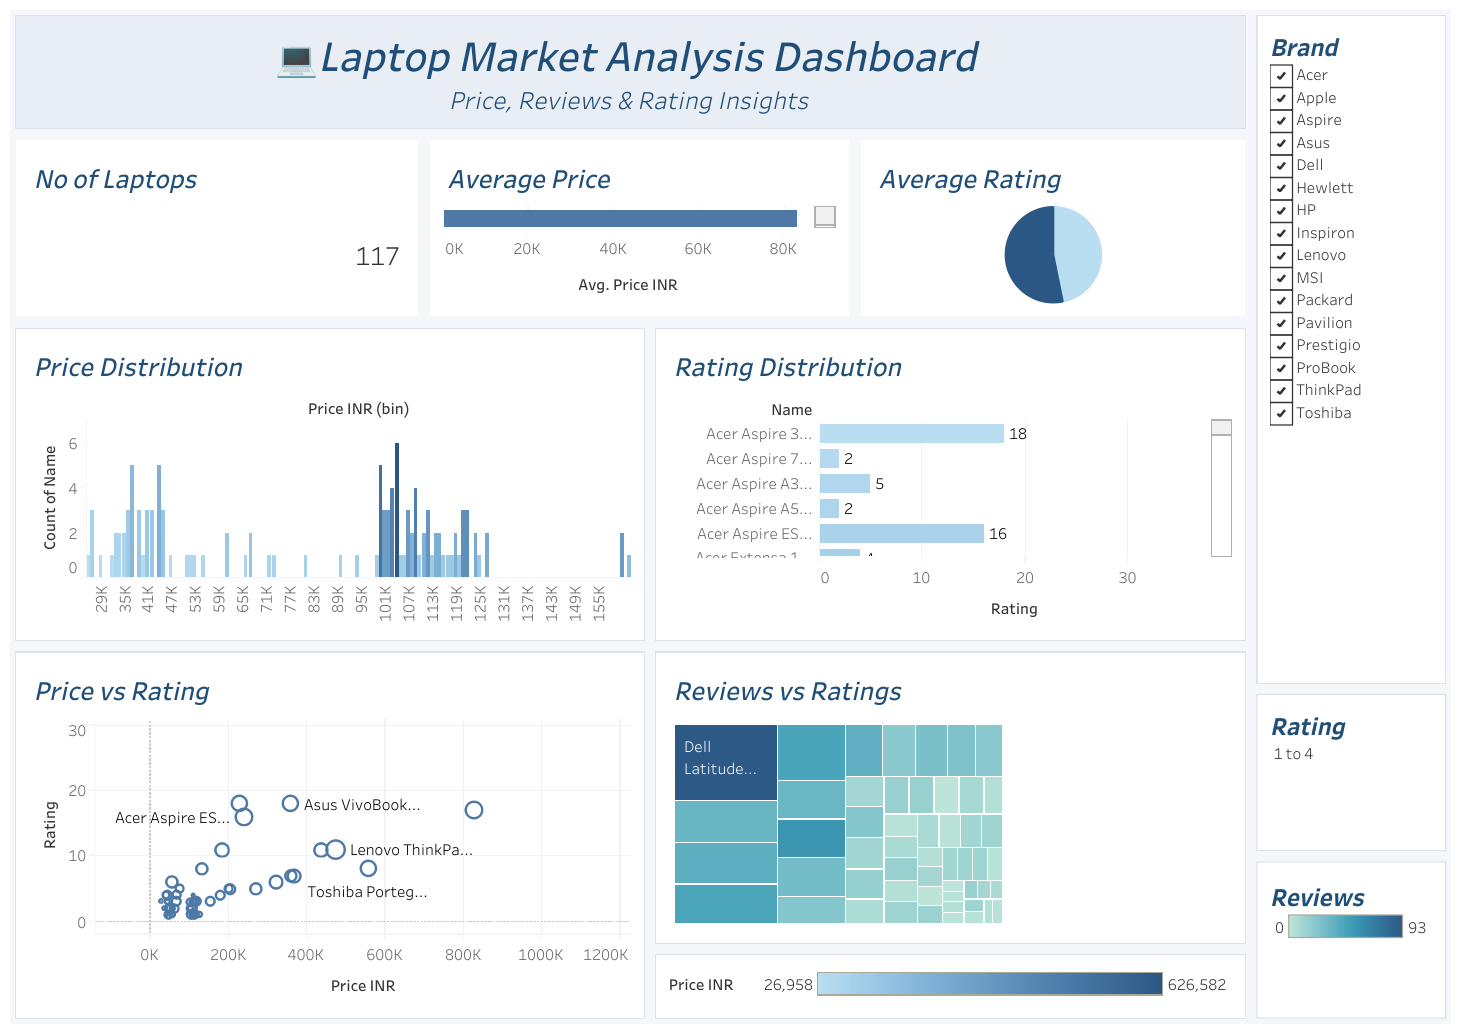

What the dashboard file says about the page in this screenshot:
{"tool":"tableau","page":{"name":"Dashboard 1","canvas":[1000,1000],"units":"permille","ordinal":0},"visuals":[{"type":"title","box":[4.8,9.4,893.8,116.3]},{"type":"filter","title":"Price Distribution","param":"[federated.1fd040g0j1hjsf1aspedt0na9p3t].[none:Brand:nk]","box":[898.6,9.4,96.6,656.9]},{"type":"worksheet","title":"No of Laptops","mark":"Automatic","box":[4.8,125.7,268.6,177.4]},{"type":"worksheet","title":"Average Price","mark":"Automatic","cols":["Price_INR"],"box":[273.4,125.7,327.7,177.4]},{"type":"worksheet","title":"Average Rating","mark":"Pie","box":[601.1,125.7,297.5,177.4]},{"type":"worksheet","title":"Price Distribution","mark":"Automatic","rows":["Name"],"cols":["Price INR (bin)"],"box":[4.8,303.2,460.5,322]},{"type":"worksheet","title":"Rating Distribution","mark":"Bar","rows":["Name"],"cols":["Rating"],"box":[465.3,303.2,433.3,322]},{"type":"worksheet","title":"Price vs Rating","mark":"Automatic","rows":["Rating"],"cols":["Price_INR"],"box":[4.8,625.1,460.5,365.4]},{"type":"worksheet","title":"Reviews vs Ratings","mark":"Automatic","box":[465.3,625.1,433.3,294.9]},{"type":"filter","title":"Reviews vs Ratings","param":"[federated.1fd040g0j1hjsf1aspedt0na9p3t].[none:Rating:qk]","box":[898.6,666.3,96.6,162.2]},{"type":"legend","title":"Reviews vs Ratings","param":"[federated.1fd040g0j1hjsf1aspedt0na9p3t].[sum:Reviews:qk]","box":[898.6,828.4,96.6,162.2]},{"type":"legend","title":"Price Distribution","param":"[federated.1fd040g0j1hjsf1aspedt0na9p3t].[sum:Price_INR:qk]","box":[465.3,920.1,433.3,70.5]}]}

Visuals, with their boxes on the dashboard's canvas, which has no fixed pixel size, in thousandths of its width and height (x1, y1, x2, y2). These are canvas units, not pixel positions in the 1460x1033 screenshot, which may show the page scaled, cropped or inside an application window:
title: {"x1": 5, "y1": 9, "x2": 899, "y2": 126}
"Price Distribution" filter: {"x1": 899, "y1": 9, "x2": 995, "y2": 666}
"No of Laptops" worksheet: {"x1": 5, "y1": 126, "x2": 273, "y2": 303}
"Average Price" worksheet: {"x1": 273, "y1": 126, "x2": 601, "y2": 303}
"Average Rating" worksheet (Pie marks): {"x1": 601, "y1": 126, "x2": 899, "y2": 303}
"Price Distribution" worksheet: {"x1": 5, "y1": 303, "x2": 465, "y2": 625}
"Rating Distribution" worksheet (Bar marks): {"x1": 465, "y1": 303, "x2": 899, "y2": 625}
"Price vs Rating" worksheet: {"x1": 5, "y1": 625, "x2": 465, "y2": 990}
"Reviews vs Ratings" worksheet: {"x1": 465, "y1": 625, "x2": 899, "y2": 920}
"Reviews vs Ratings" filter: {"x1": 899, "y1": 666, "x2": 995, "y2": 828}
"Reviews vs Ratings" legend: {"x1": 899, "y1": 828, "x2": 995, "y2": 991}
"Price Distribution" legend: {"x1": 465, "y1": 920, "x2": 899, "y2": 991}
